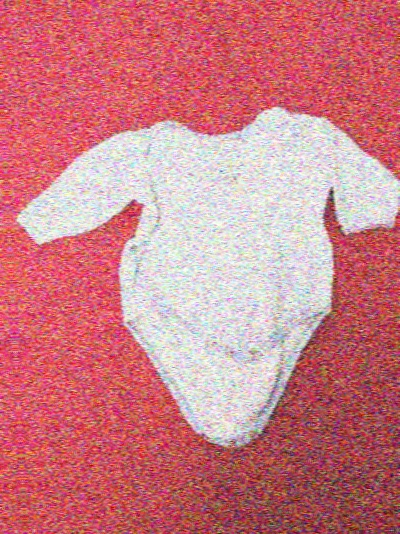Body: (7, 66, 400, 474), (0, 87, 15, 495)
